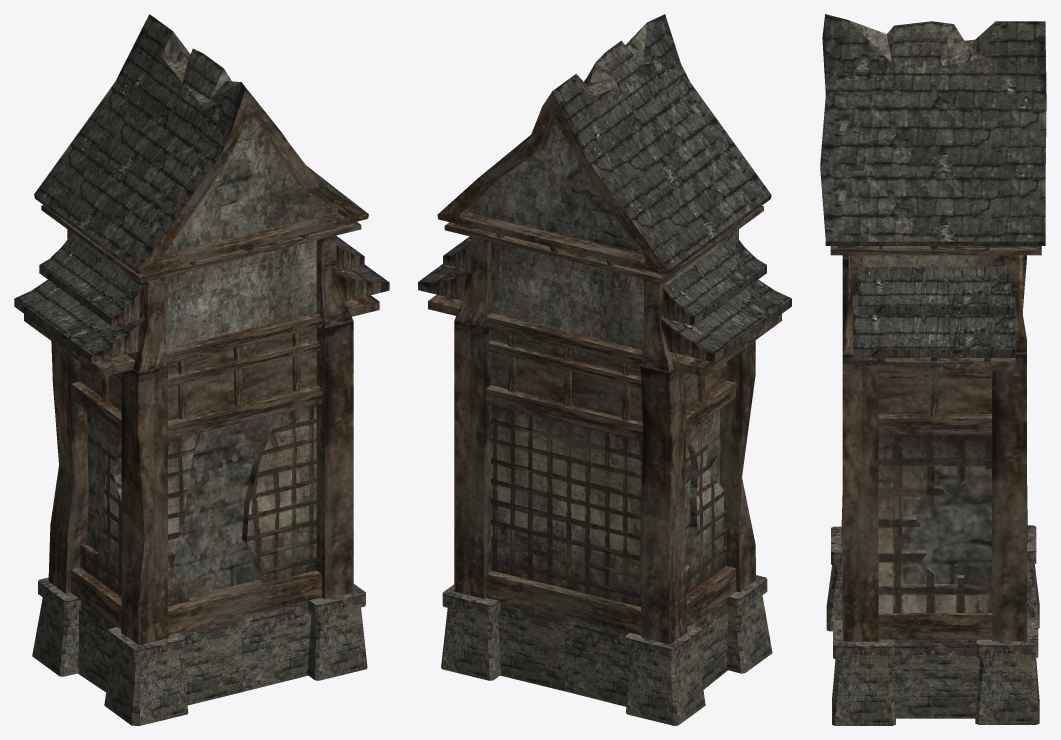
Rendered from TW2_9_HOUSE_05_02-transformed.glb.
The picture shows the model from 3 angles, left to right: view 1: azimuth 30°, elevation 25°; view 2: azimuth 150°, elevation 25°; view 3: azimuth 270°, elevation 25°; orthographic projection. The views are drawn at different scales.
Parts seen in each view (by area): view 1: default; view 2: default; view 3: default.
Boxes of the visible parts, box(x1,y1,x2,y2) form: default: box(14, 14, 389, 725); default: box(418, 14, 791, 725); default: box(820, 14, 1046, 725).
Size of the model in its own units: 6.28 by 12.41 by 3.91.
Materials: 1 (1 with a texture image).
